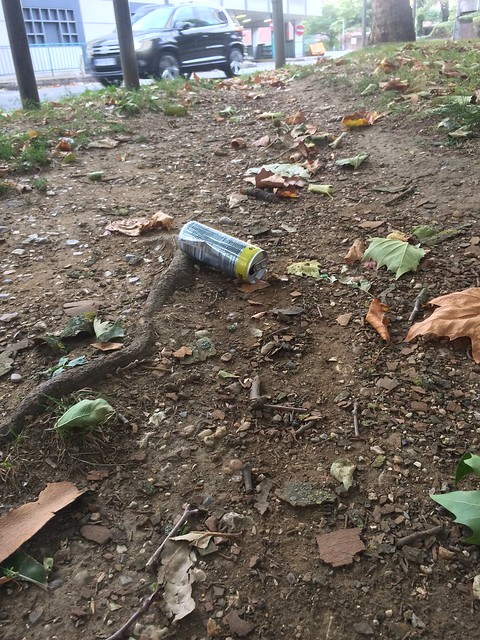can: (170, 211, 272, 287)
